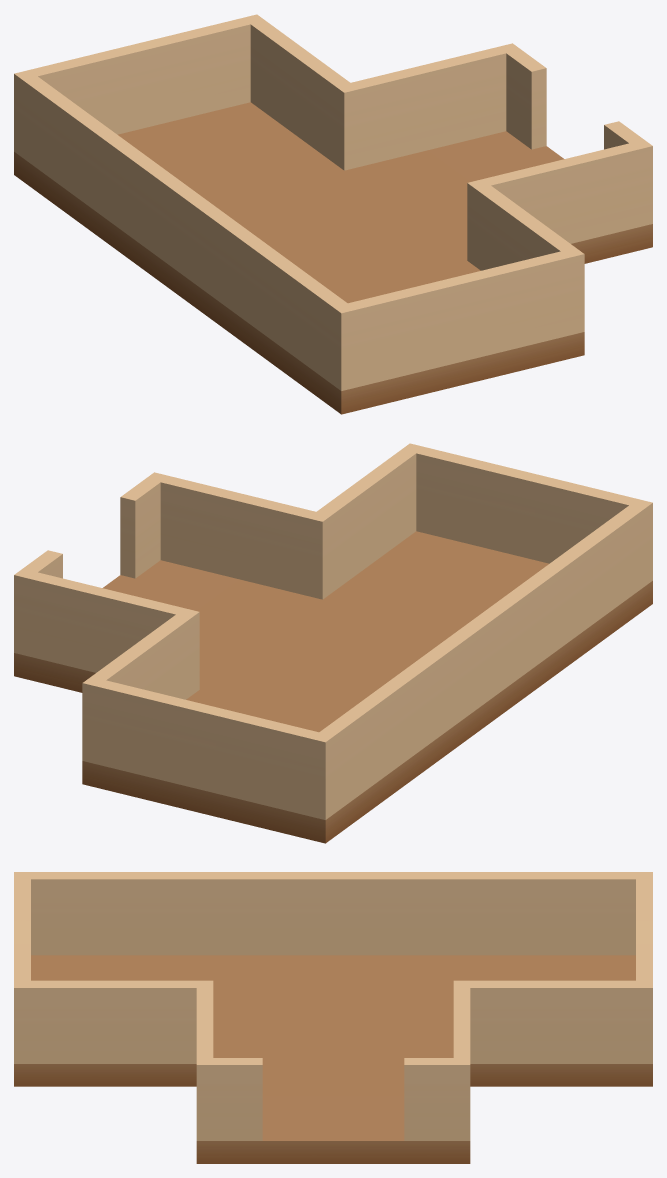
File: Fundaments_3_2.obj
3 views of the same model, one above another, from view 1: azimuth 30°, elevation 25°; view 2: azimuth 150°, elevation 25°; view 3: azimuth 270°, elevation 25° (orthographic). The views are drawn at different scales.
Visible parts, largest first — view 1: Fundaments_3_2; view 2: Fundaments_3_2; view 3: Fundaments_3_2.
Part boxes in pixels (left/top/right/bottom): Fundaments_3_2: left=14, top=14, right=652, bottom=414; Fundaments_3_2: left=14, top=443, right=652, bottom=843; Fundaments_3_2: left=14, top=872, right=652, bottom=1163.
Size of the model in its own units: 10 by 2.39 by 14.
